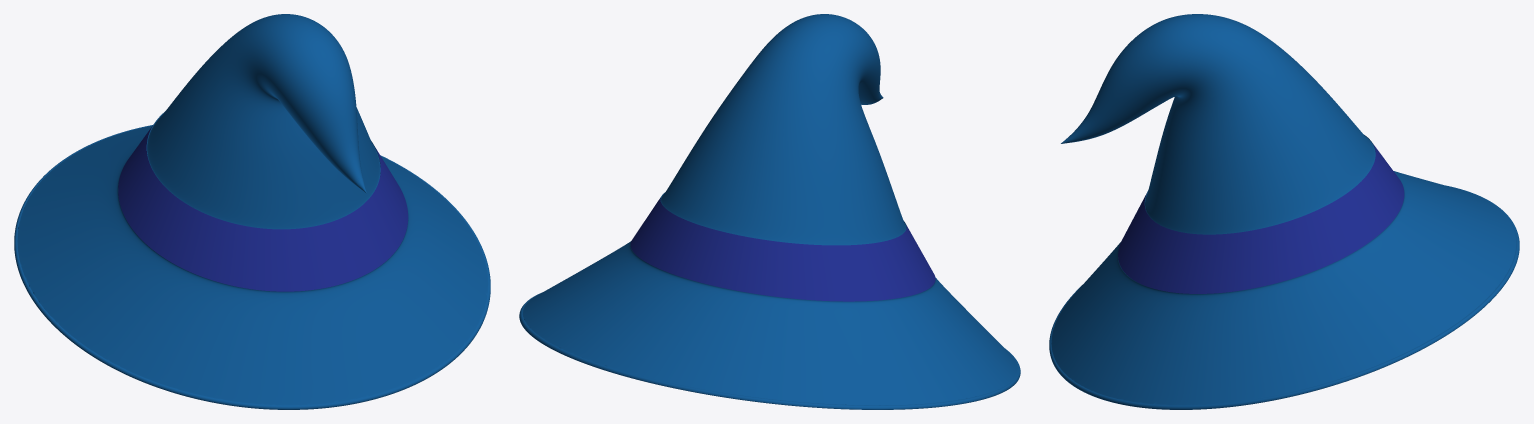
The model's file is Hat.fbx.
The picture shows the model from 3 angles, left to right: view 1: azimuth 30°, elevation 25°; view 2: azimuth 150°, elevation 25°; view 3: azimuth 270°, elevation 25°; orthographic projection. The views are drawn at different scales.
Parts seen in each view (by area): view 1: Hat.001; view 2: Hat.001; view 3: Hat.001.
Part boxes in pixels (x1,y1,x2,y2): Hat.001: [14, 14, 490, 409]; Hat.001: [519, 14, 1020, 409]; Hat.001: [1049, 14, 1519, 409].
Bounding box in the file's own units: 90.95 × 68 × 88.55.
